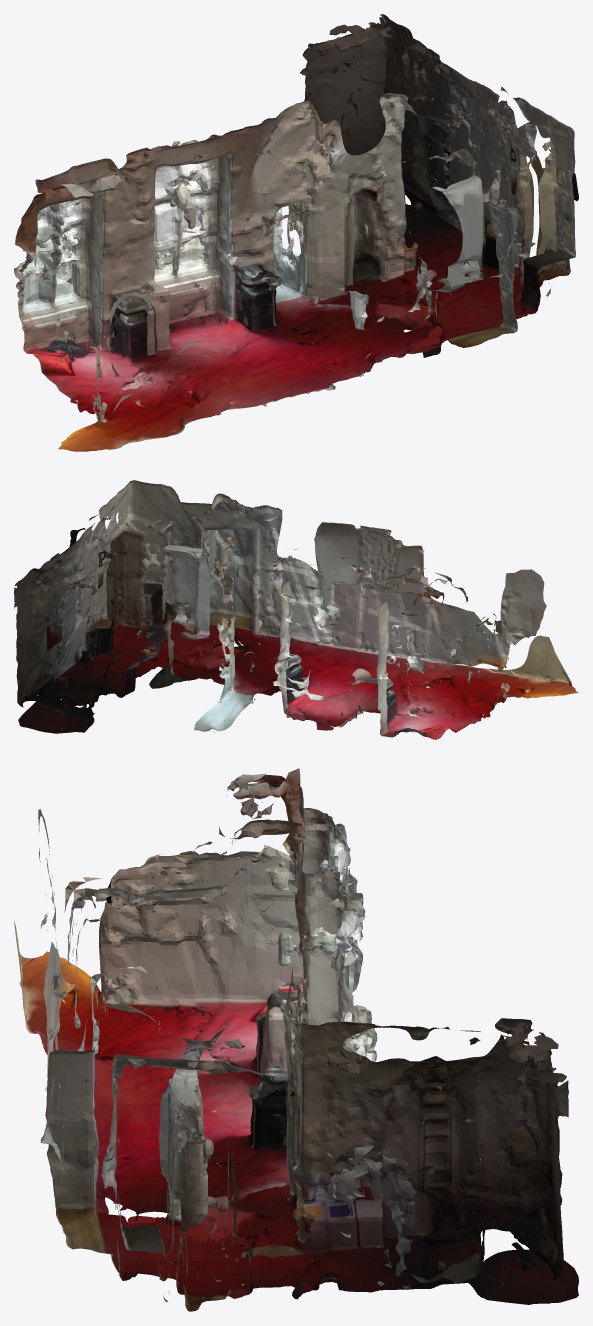
3 renders of one model, top to bottom at view 1: azimuth 30°, elevation 25°; view 2: azimuth 150°, elevation 25°; view 3: azimuth 270°, elevation 25°, orthographic. The views are drawn at different scales.
Bounding box in the file's own units: 13.54 × 4.73 × 8.79.
3 materials, 3 textured.
